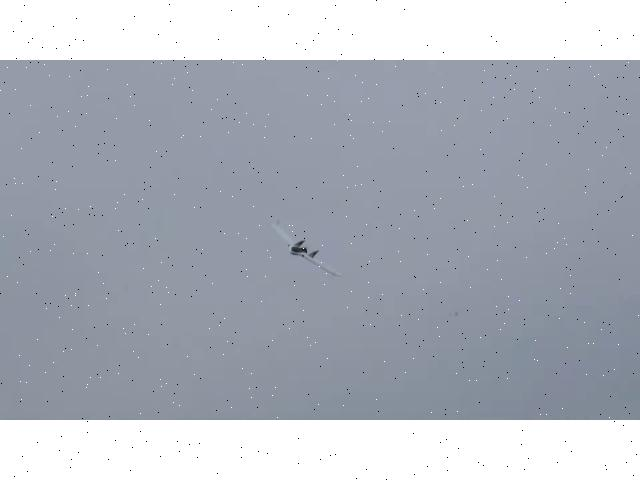Anti-Drone: (272, 223, 340, 277)
